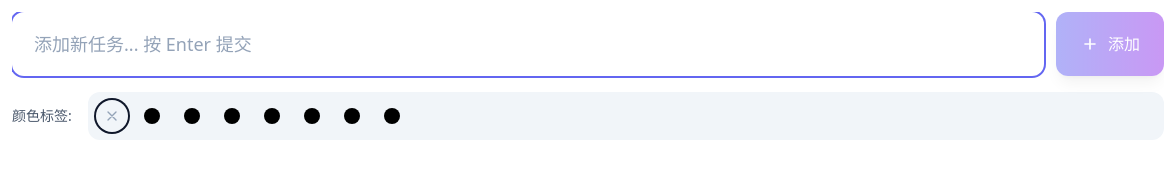
Test case: TodoForm › shows selected color label when color is picked
Click the button titled "🔴" at (152, 116), box [136, 100, 168, 132]
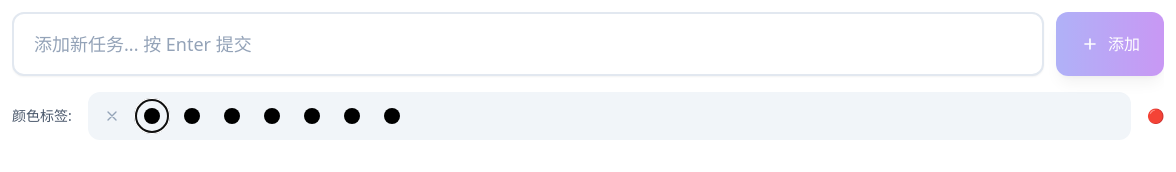
Expected: the text "🔴" is shown, [1147, 106, 1164, 126]
